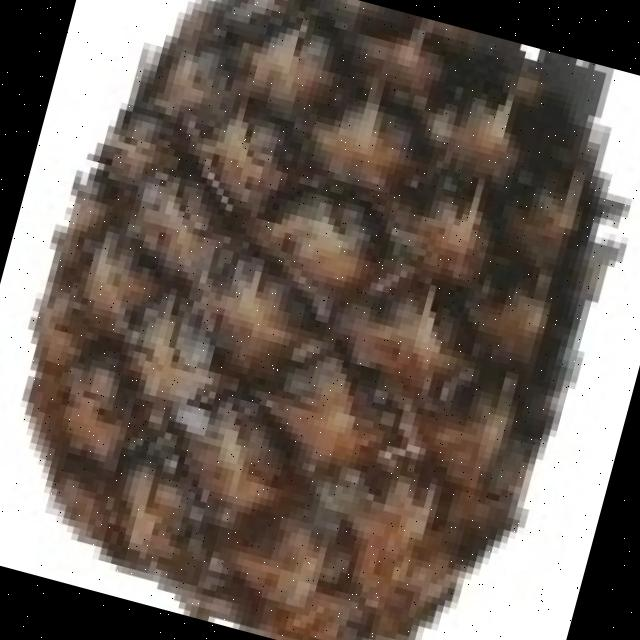pineapple: (25, 0, 620, 640)
